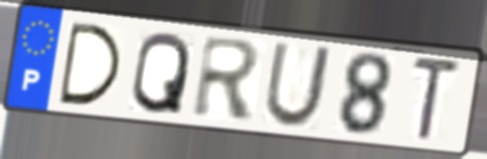8: (338, 49, 395, 137)
D: (56, 19, 126, 109)
Q: (128, 29, 194, 117)
R: (189, 33, 265, 123)
T: (410, 52, 464, 143)
U: (260, 41, 335, 131)
